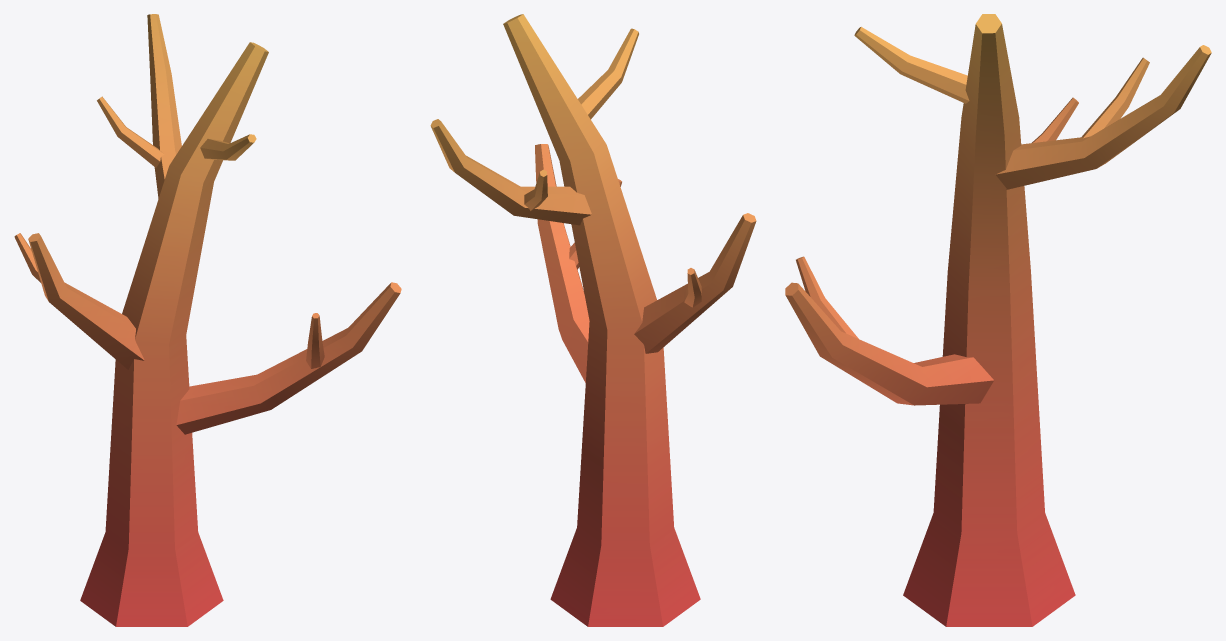
The model's file is CoralReef_10.fbx.
3 renders of one model, left to right at view 1: azimuth 30°, elevation 25°; view 2: azimuth 150°, elevation 25°; view 3: azimuth 270°, elevation 25°, orthographic. The views are drawn at different scales.
Parts seen in each view (by area): view 1: tree_01; view 2: tree_01; view 3: tree_01.
Boxes of the visible parts, box(x1,y1,x2,y2) form: tree_01: box(14, 14, 401, 626); tree_01: box(430, 14, 756, 626); tree_01: box(785, 14, 1211, 626).
Size of the model in its own units: 186 by 324 by 196.
1 material, 1 textured.
